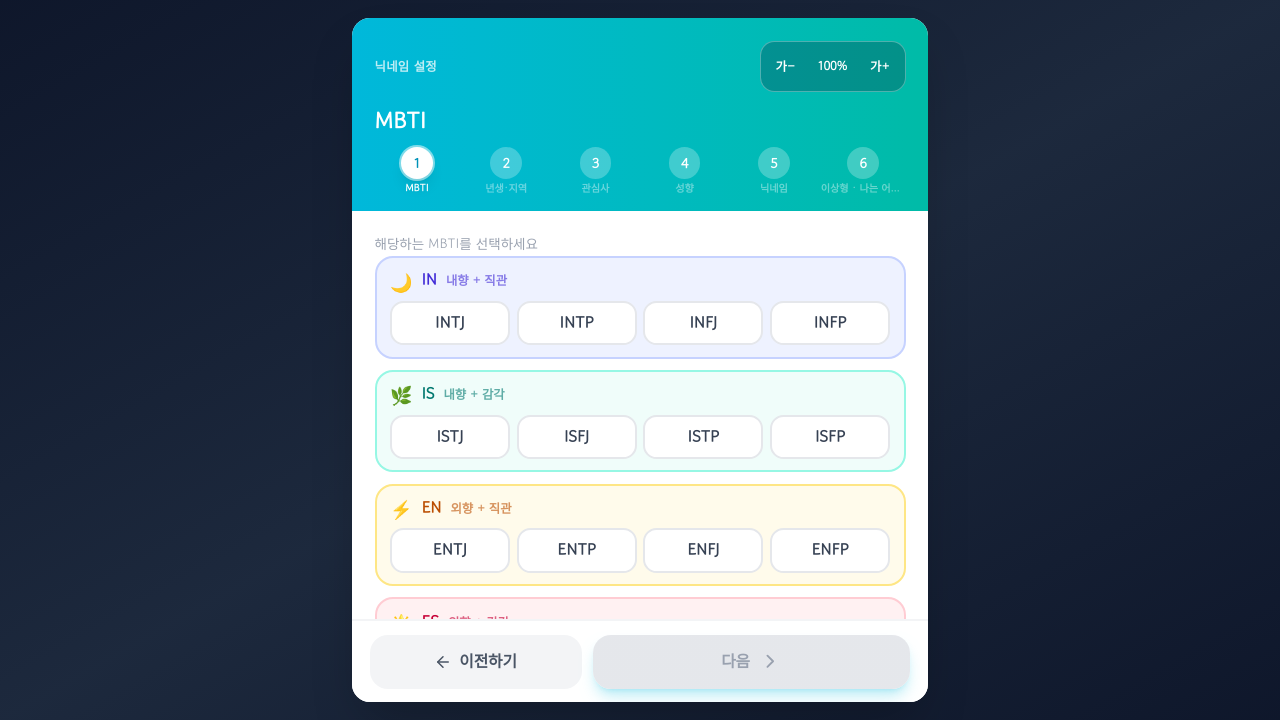
Test case: NicknameSetupScreen — step 1 back › places exactly 89년 and 88년 이하 under the 00년대 tab and shows the guidance note
Click the button "INTJ" at (450, 323), box [390,301,510,346]
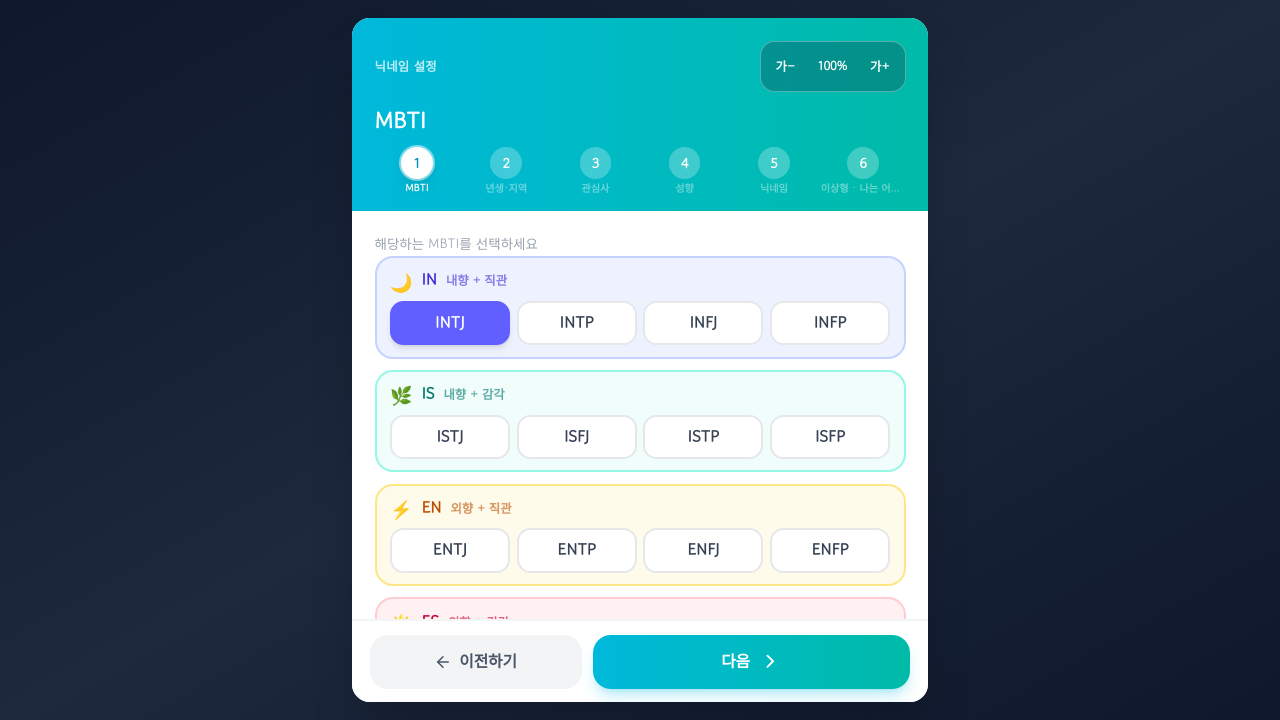
Click the button "다음" at (751, 662), box [593,634,910,688]
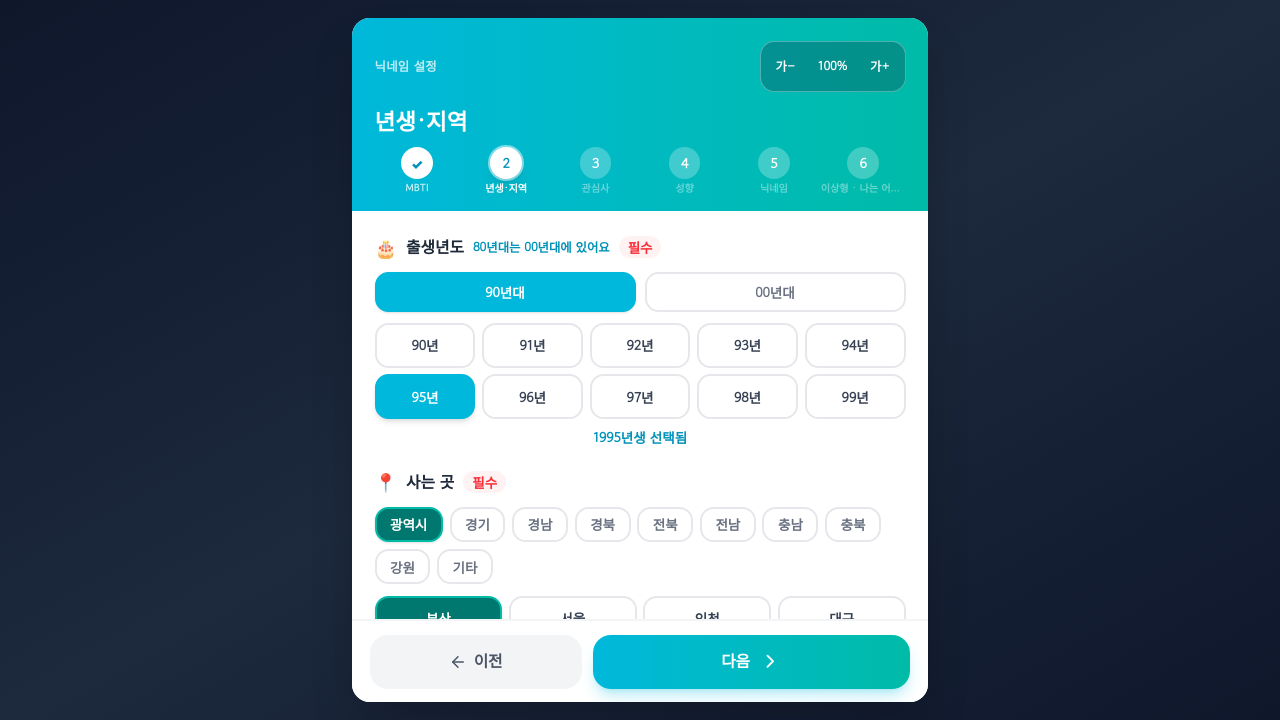
Expected: the text "80년대는 00년대에 있어요" is shown, [473,238,610,257]
Click the button "00년대" at (775, 292), box [644,272,906,312]
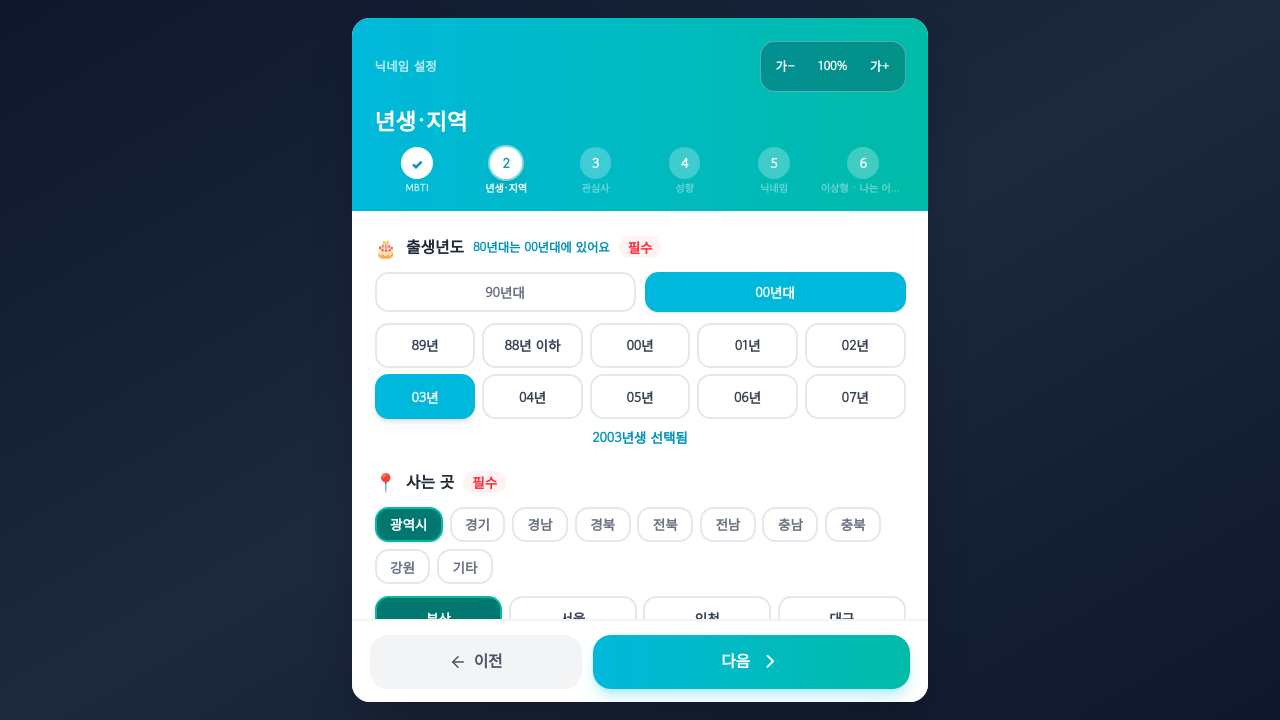
Expected: the button "89년" is shown, [374,323,475,368]
Expected: the button "88년 이하" is shown, [482,323,583,368]
Expected: the button "00년" is shown, [590,323,690,368]
